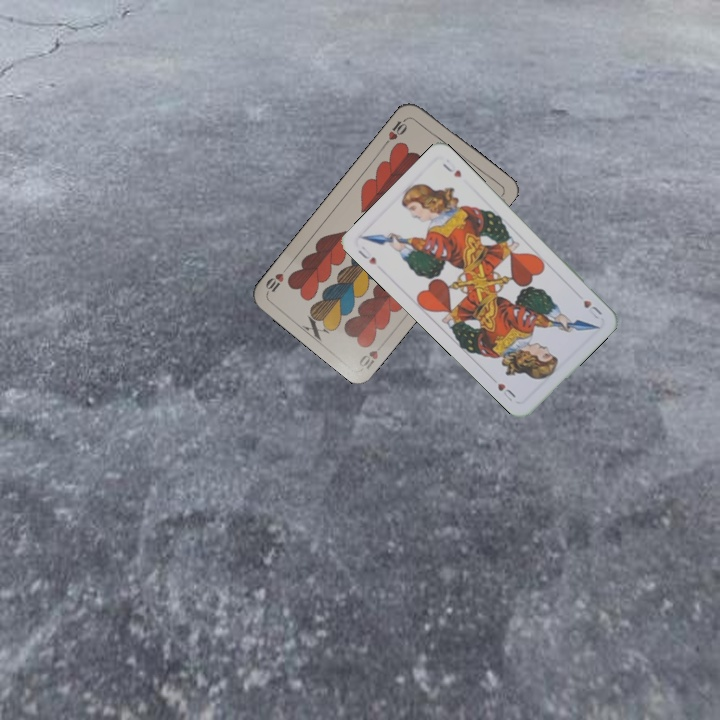H10: (355, 337, 388, 372), (380, 113, 411, 147)
HU: (579, 296, 605, 322), (354, 246, 379, 267)
